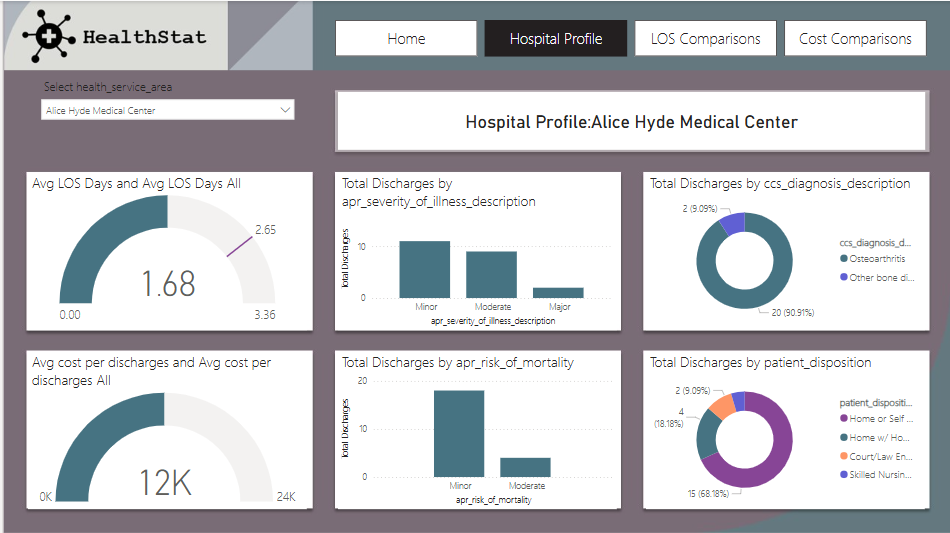

What the dashboard file says about the page in this screenshot:
{"tool":"powerbi","page":{"name":"Hospital Profile","canvas":[1280,720],"ordinal":1},"visuals":[{"type":"gauge","fields":{"Y":["__Measure.Avg LOS Days"],"TargetValue":["__Measure.Avg LOS Days All"]},"box":[33.7,232,376.3,211.8],"z":0},{"type":"gauge","fields":{"Y":["__Measure.Avg cost per discharges"]},"box":[33.7,473.4,376.3,211.8],"z":1},{"type":"clusteredColumnChart","fields":{"Y":["__Measure.Total Discharges"],"Category":["hospital_discharges.apr_severity_of_illness_description"]},"box":[451.8,232,376.3,211.8],"z":2},{"type":"clusteredColumnChart","fields":{"Y":["__Measure.Total Discharges"],"Category":["hospital_discharges.apr_risk_of_mortality"]},"box":[451.8,473.4,376.3,211.8],"z":3},{"type":"donutChart","fields":{"Y":["__Measure.Total Discharges"],"Category":["hospital_discharges.ccs_diagnosis_description"]},"box":[867.3,232,376.3,211.8],"z":4},{"type":"donutChart","fields":{"Y":["__Measure.Total Discharges"],"Category":["hospital_discharges.patient_disposition"]},"box":[867.3,473.4,376.3,211.8],"z":5},{"type":"slicer","fields":{"Values":["hospital_discharges.facility_name"]},"box":[41.8,99.8,361.5,121.4],"z":6},{"type":"card","fields":{"Values":["__Measure.Title Selected Facility"]},"box":[451.8,122.7,791.7,78.2],"z":7},{"type":"pageNavigator","box":[447.8,25.6,799.8,49.9],"z":8}]}

Visuals, with their boxes in screenshot pixels (x1, y1, x2, y2), scaled from the page's 1280x720 canvas onto the 950x533 screenshot:
gauge - __Measure.Avg LOS Days x __Measure.Avg LOS Days All: <region>25, 172, 304, 329</region>
gauge - __Measure.Avg cost per discharges: <region>25, 350, 304, 507</region>
clusteredColumnChart - __Measure.Total Discharges x hospital_discharges.apr_severity_of_illness_description: <region>335, 172, 615, 329</region>
clusteredColumnChart - __Measure.Total Discharges x hospital_discharges.apr_risk_of_mortality: <region>335, 350, 615, 507</region>
donutChart - __Measure.Total Discharges x hospital_discharges.ccs_diagnosis_description: <region>644, 172, 923, 329</region>
donutChart - __Measure.Total Discharges x hospital_discharges.patient_disposition: <region>644, 350, 923, 507</region>
slicer - hospital_discharges.facility_name: <region>31, 74, 299, 164</region>
card - __Measure.Title Selected Facility: <region>335, 91, 923, 149</region>
pageNavigator: <region>332, 19, 926, 56</region>
